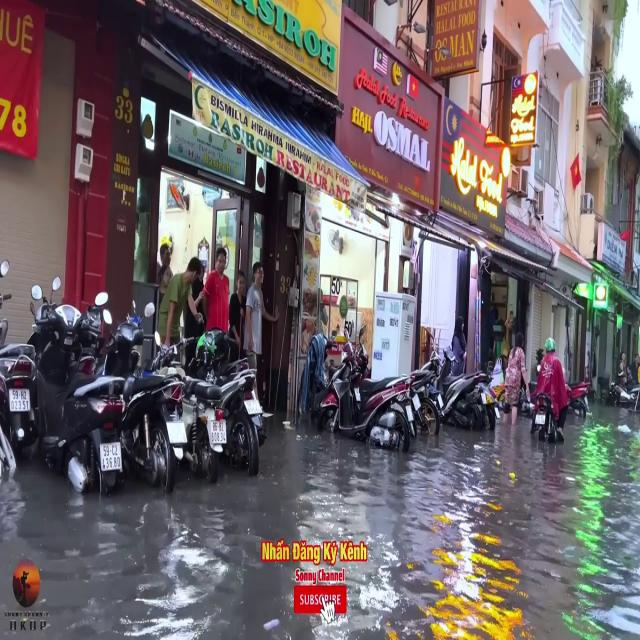bien_trang: (100, 443, 122, 472), (11, 388, 31, 415), (211, 422, 226, 444)
